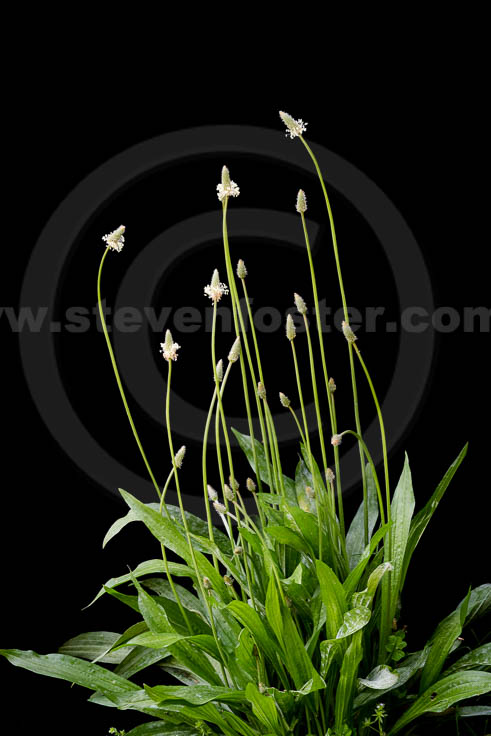buckhorn plantain: (70, 105, 452, 736)
